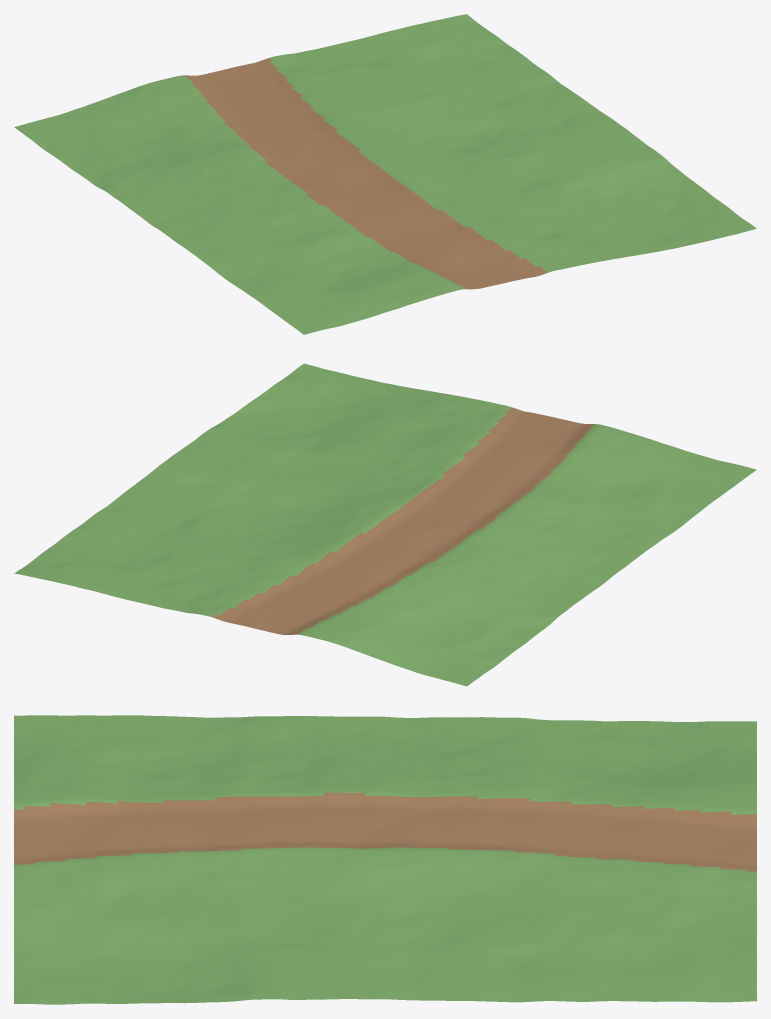
File: cedar_hollow_heightmesh_0_neg3.glb
3 renders of one model, top to bottom at view 1: azimuth 30°, elevation 25°; view 2: azimuth 150°, elevation 25°; view 3: azimuth 270°, elevation 25°, orthographic. The views are drawn at different scales.
Parts seen in each view (by area): view 1: cedar_hollow_heightmesh_0_neg3; view 2: cedar_hollow_heightmesh_0_neg3; view 3: cedar_hollow_heightmesh_0_neg3.
Part boxes in pixels (x1,y1,x2,y2): cedar_hollow_heightmesh_0_neg3: [14, 14, 756, 334]; cedar_hollow_heightmesh_0_neg3: [14, 363, 756, 686]; cedar_hollow_heightmesh_0_neg3: [14, 715, 756, 1004].
Bounding box in the file's own units: 11 × 0.3273 × 12.2.
